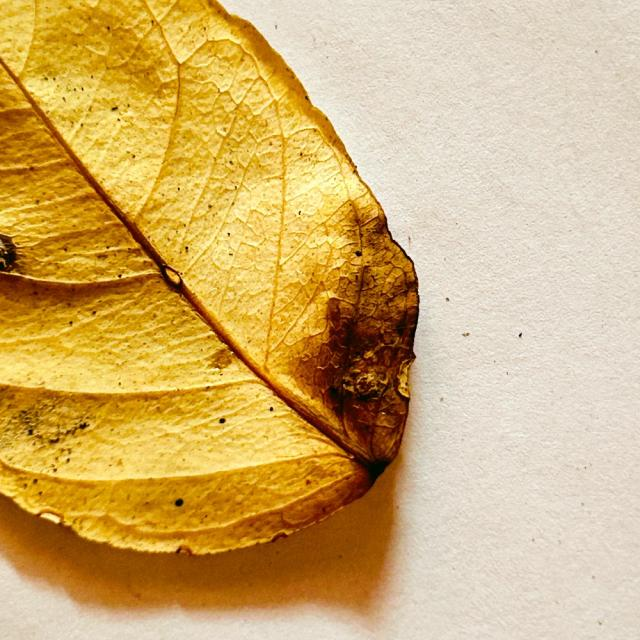DryLeaf_Lemon: (0, 0, 418, 553)
